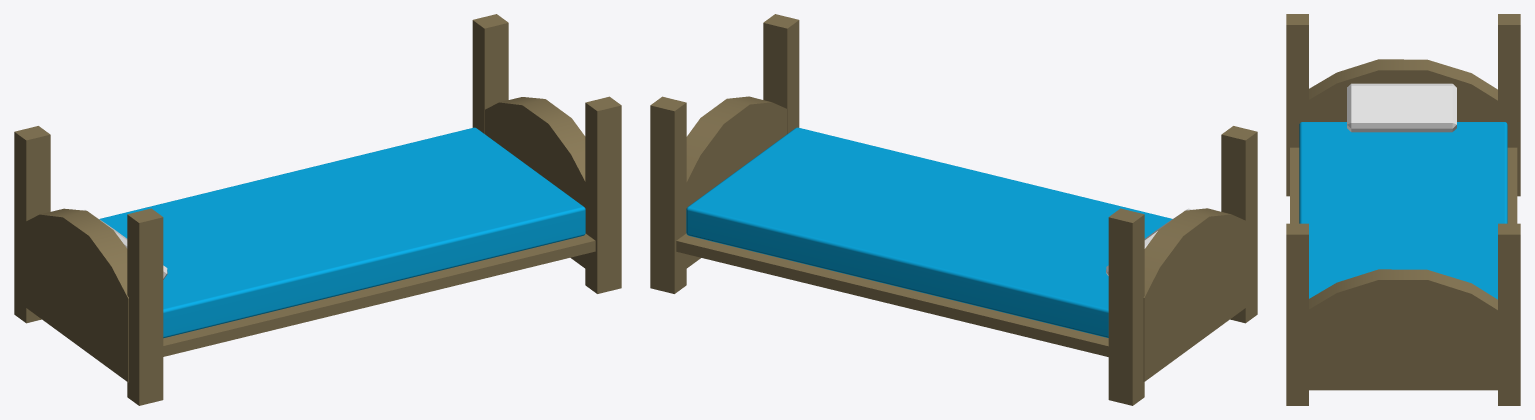
Rendered from bed.fbx.
3 renders of one model, left to right at view 1: azimuth 30°, elevation 25°; view 2: azimuth 150°, elevation 25°; view 3: azimuth 270°, elevation 25°, orthographic. The views are drawn at different scales.
Visible parts, largest first — view 1: pCube13, pCube11, pCube12, pCube9, pCube6, pCube10, pCube7, pCube8; view 2: pCube13, pCube11, pCube12, pCube7, pCube8, pCube10, pCube6, pCube9; view 3: pCube13, pCube10, pCube11, pCube14, pCube8, pCube9, pCube6, pCube7, pCube12.
Part boxes in pixels (x1,y1,x2,y2): pCube13: (99, 127, 585, 338); pCube11: (24, 208, 128, 382); pCube12: (163, 233, 595, 356); pCube9: (585, 96, 621, 293); pCube6: (127, 208, 163, 405); pCube10: (485, 97, 585, 268); pCube7: (14, 126, 50, 323); pCube8: (472, 14, 508, 133); pCube13: (686, 127, 1172, 337); pCube11: (1143, 208, 1248, 381); pCube12: (676, 233, 1108, 356); pCube7: (1108, 208, 1144, 405); pCube8: (650, 96, 686, 293); pCube10: (686, 96, 786, 268); pCube6: (1221, 126, 1257, 323); pCube9: (763, 14, 799, 133); pCube13: (1299, 122, 1507, 299); pCube10: (1309, 269, 1497, 390); pCube11: (1309, 59, 1497, 121); pCube14: (1347, 83, 1456, 132); pCube8: (1498, 223, 1520, 405); pCube9: (1286, 223, 1308, 405); pCube6: (1286, 14, 1308, 196); pCube7: (1498, 14, 1520, 196); pCube12: (1290, 147, 1517, 223).
Size of the model in its own units: 10.64 by 3.85 by 4.76.
